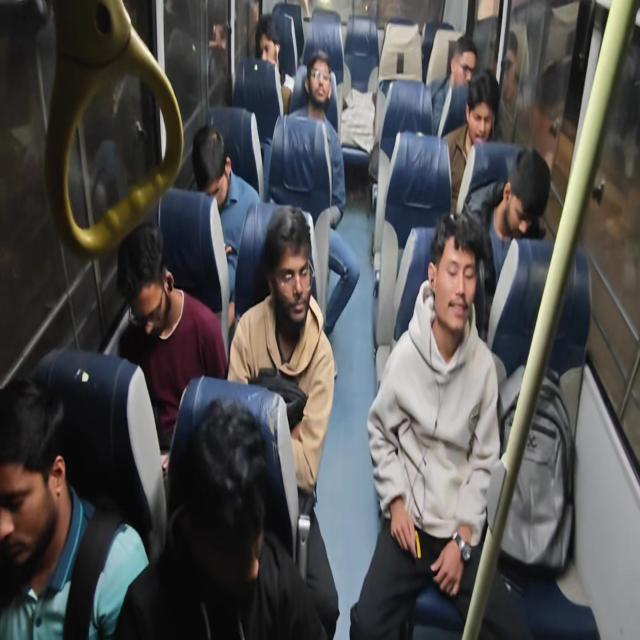person: (0, 380, 95, 605), (185, 414, 285, 614), (242, 199, 340, 383), (419, 225, 510, 412), (109, 240, 212, 379), (501, 159, 551, 255), (191, 127, 241, 202), (464, 77, 508, 162), (252, 9, 294, 83), (306, 55, 338, 110), (448, 35, 479, 89)
